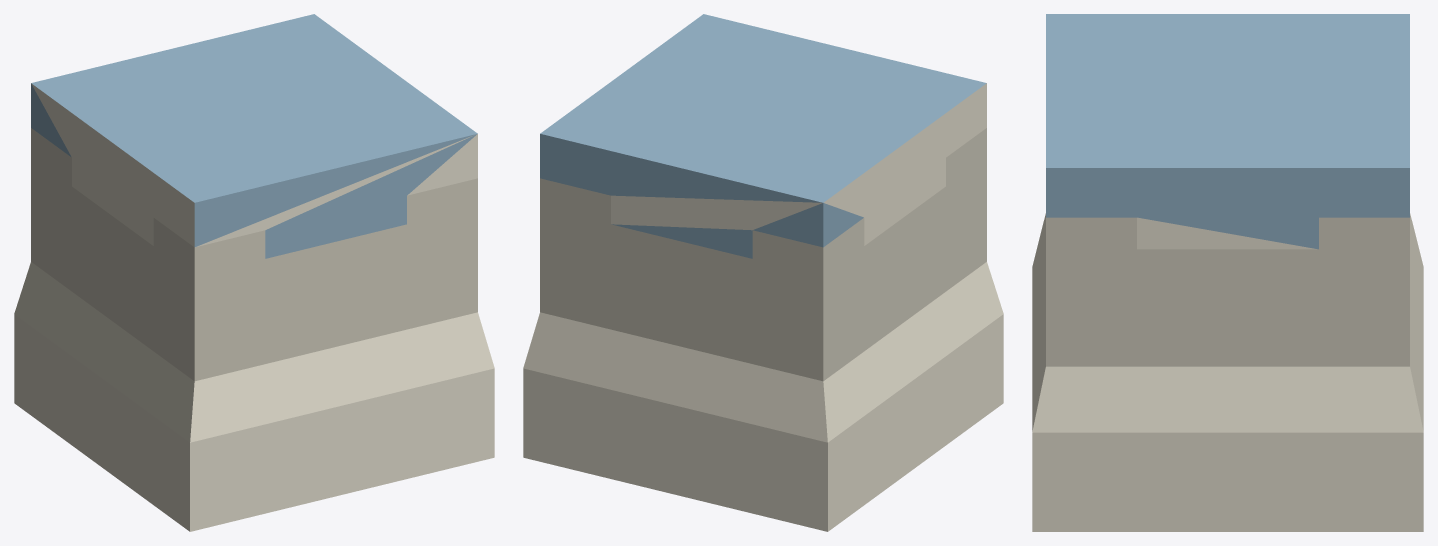
The model's file is towerSquareBaseColor.glb.
The picture shows the model from 3 angles, left to right: view 1: azimuth 30°, elevation 25°; view 2: azimuth 150°, elevation 25°; view 3: azimuth 270°, elevation 25°; orthographic projection. The views are drawn at different scales.
Visible parts, largest first — view 1: towerSquareBaseColor; view 2: towerSquareBaseColor; view 3: towerSquareBaseColor.
Part boxes in pixels (x1,y1,x2,y2): towerSquareBaseColor: (14,14,494,531); towerSquareBaseColor: (523,14,1003,531); towerSquareBaseColor: (1032,14,1423,531).
Bounding box in the file's own units: 10 × 10.1 × 10.
